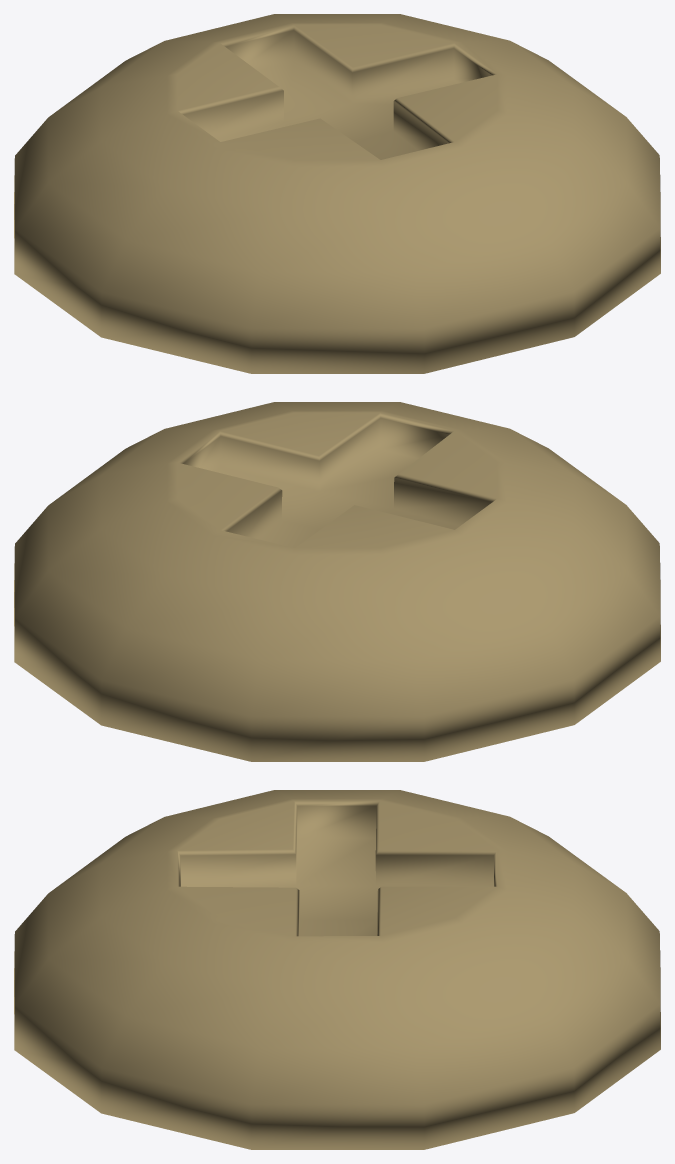
The model's file is G_Metal_04_Screw.fbx.
The picture shows the model from 3 angles, top to bottom: view 1: azimuth 30°, elevation 25°; view 2: azimuth 150°, elevation 25°; view 3: azimuth 270°, elevation 25°; orthographic projection.
Parts seen in each view (by area): view 1: G_Metal_04_Screw; view 2: G_Metal_04_Screw; view 3: G_Metal_04_Screw.
Part boxes in pixels (box(x1,y1,x2,y2)): G_Metal_04_Screw: box(14, 14, 660, 373); G_Metal_04_Screw: box(14, 402, 660, 761); G_Metal_04_Screw: box(14, 790, 660, 1149).
Bounding box in the file's own units: 4.1 × 1.01 × 4.1.
